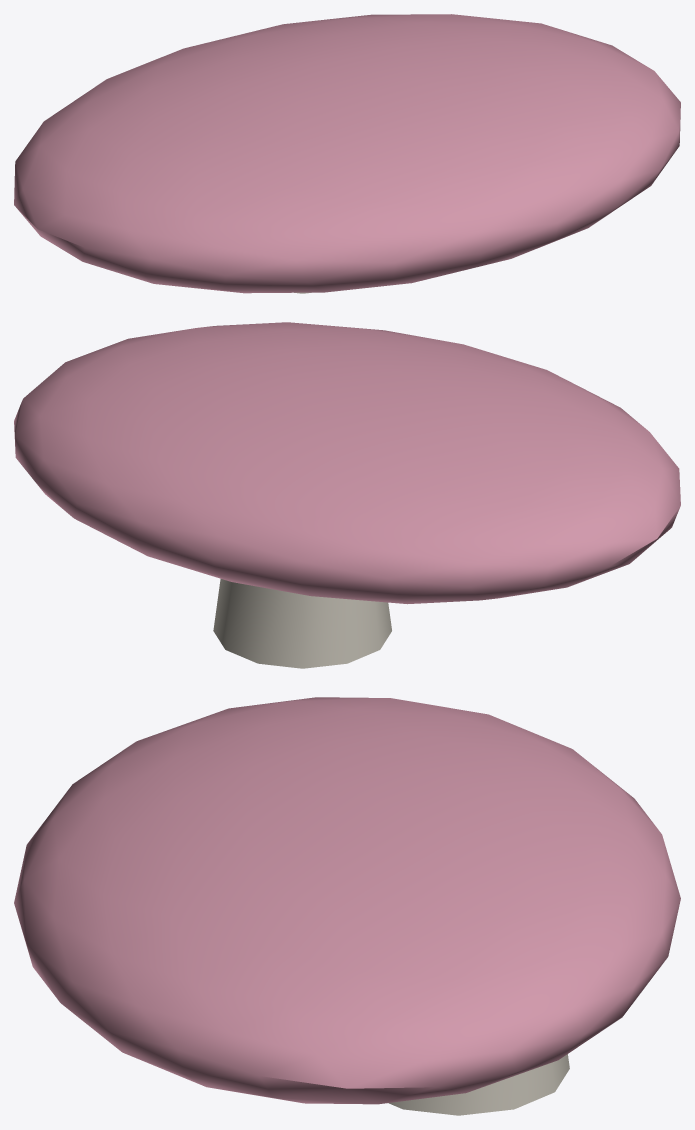
File: merulius-tremellosus.glb
3 renders of one model, top to bottom at view 1: azimuth 30°, elevation 25°; view 2: azimuth 150°, elevation 25°; view 3: azimuth 270°, elevation 25°, orthographic. The views are drawn at different scales.
Parts seen in each view (by area): view 1: shelf; view 2: shelf, stalk; view 3: shelf, stalk.
Boxes of the visible parts, bbox=[...] form: shelf: bbox=[14, 14, 680, 293]; shelf: bbox=[14, 322, 680, 604]; stalk: bbox=[213, 579, 391, 668]; shelf: bbox=[14, 697, 680, 1104]; stalk: bbox=[388, 1054, 569, 1115].
Size of the model in its own units: 0.48 by 0.1493 by 0.3599.
